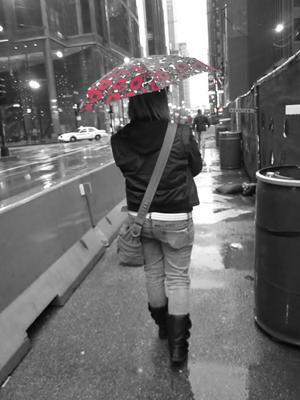person: (111, 89, 204, 363)
